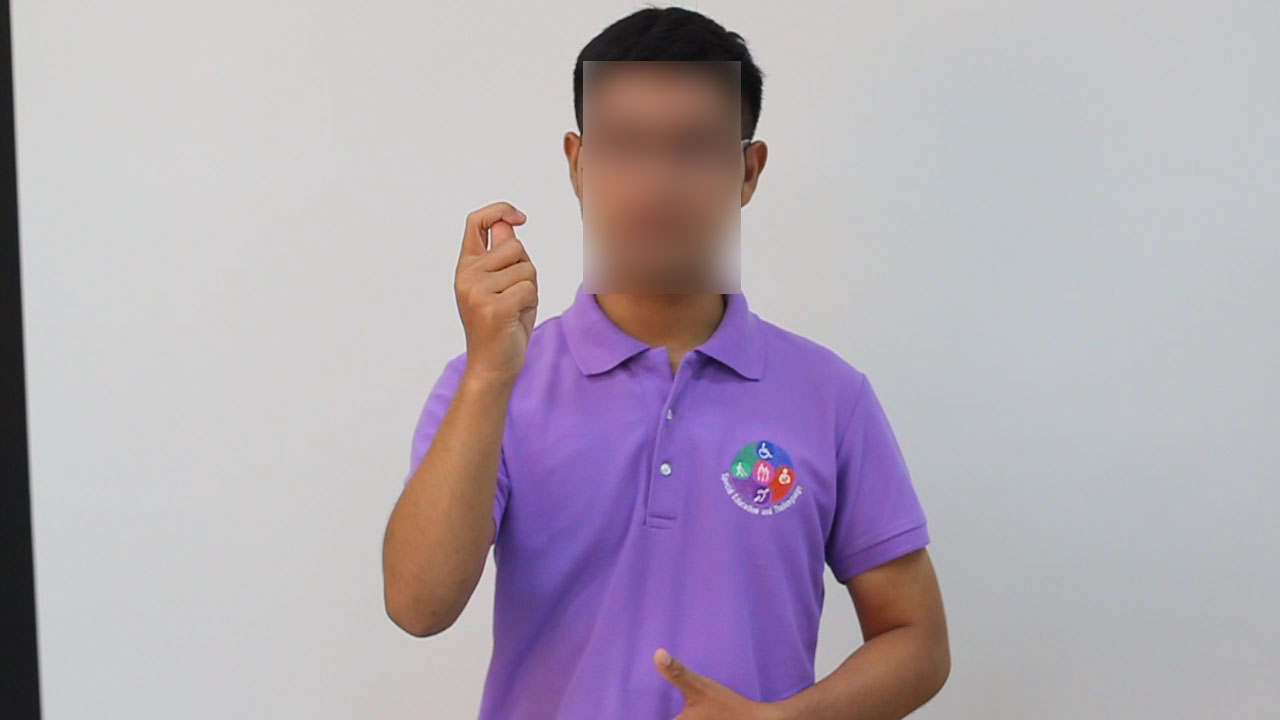or: (445, 197, 551, 387)
